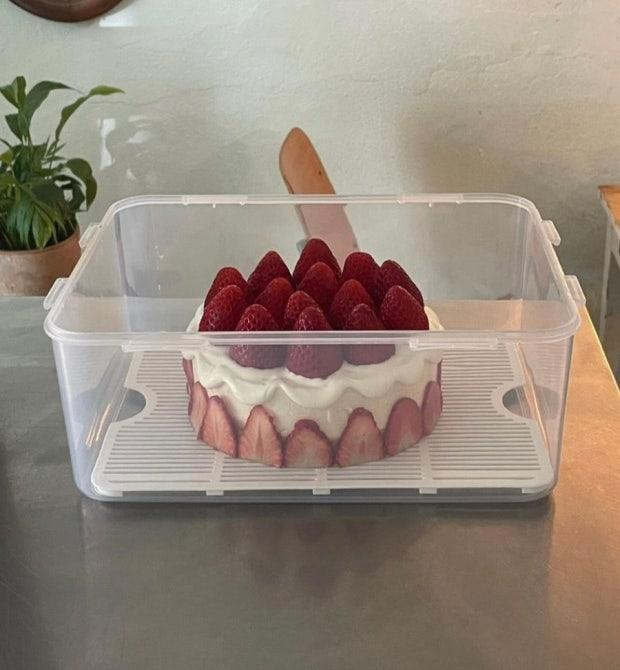Lunch Box: (44, 194, 582, 501)
